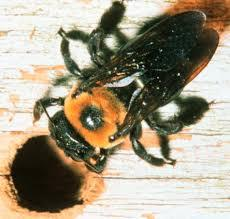Xylocopa: (34, 2, 219, 176)
